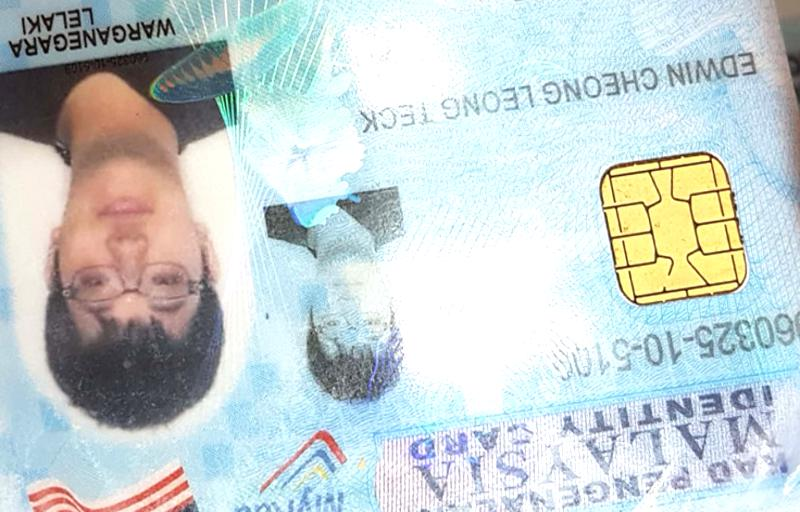hologramB: (242, 1, 358, 190)
